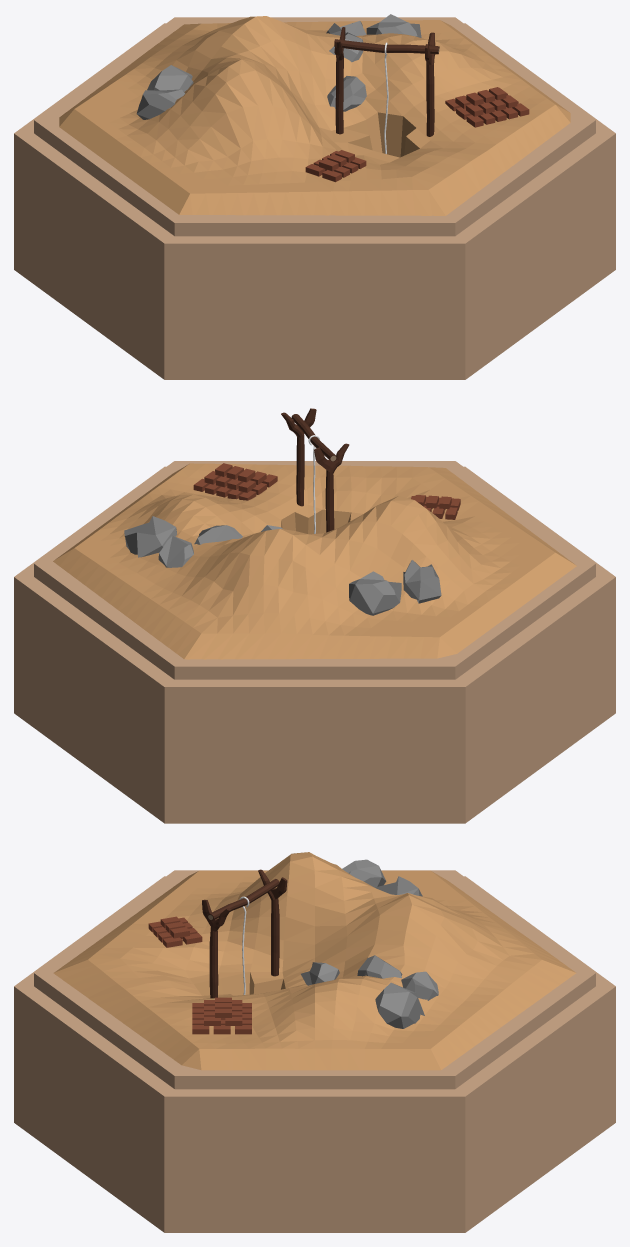
Rendered from fbx_claypit.fbx.
The picture shows the model from 3 angles, top to bottom: view 1: azimuth 30°, elevation 25°; view 2: azimuth 150°, elevation 25°; view 3: azimuth 270°, elevation 25°; orthographic projection.
Visible parts, largest first — view 1: Hills, Clayhills, Pillars, Bricks, Rock2.001, Rock3.002, Rock2.002, Rock3.001, Bricks.003, Bricks.001; view 2: Hills, Clayhills, Pillars, Rock3.002, Rock3.001, Rock2.001, Bricks, Rock3.003, Bricks.001, Rock1.001; view 3: Hills, Clayhills, Pillars, Rock3.001, Bricks, Rock2.001, Bricks.003, Rock3.003, Bricks.001, Rock1.001, Rock2.002.
Part boxes in pixels (x1=…): Hills: x1=14, y1=17, x2=615, y2=379; Clayhills: x1=59, y1=16, x2=570, y2=215; Pillars: x1=334, y1=27, x2=439, y2=136; Bricks: x1=445, y1=87, x2=529, y2=127; Rock2.001: x1=136, y1=89, x2=185, y2=119; Rock3.002: x1=147, y1=65, x2=193, y2=91; Rock2.002: x1=327, y1=76, x2=366, y2=111; Rock3.001: x1=366, y1=14, x2=421, y2=37; Bricks.003: x1=305, y1=151, x2=366, y2=182; Bricks.001: x1=455, y1=90, x2=517, y2=116; Hills: x1=14, y1=461, x2=615, y2=823; Clayhills: x1=53, y1=463, x2=576, y2=659; Pillars: x1=281, y1=408, x2=349, y2=532; Rock3.002: x1=349, y1=571, x2=401, y2=615; Rock3.001: x1=124, y1=516, x2=176, y2=557; Rock2.001: x1=403, y1=560, x2=441, y2=603; Bricks: x1=193, y1=463, x2=277, y2=500; Rock3.003: x1=158, y1=535, x2=193, y2=567; Bricks.001: x1=204, y1=464, x2=266, y2=492; Rock1.001: x1=194, y1=525, x2=242, y2=544; Hills: x1=14, y1=870, x2=615, y2=1232; Clayhills: x1=53, y1=852, x2=576, y2=1070; Pillars: x1=202, y1=869, x2=287, y2=998; Rock3.001: x1=375, y1=982, x2=424, y2=1028; Bricks: x1=192, y1=1003, x2=251, y2=1034; Rock2.001: x1=342, y1=859, x2=386, y2=887; Bricks.003: x1=148, y1=917, x2=202, y2=947; Rock3.003: x1=401, y1=971, x2=438, y2=1000; Bricks.001: x1=204, y1=1000, x2=242, y2=1025; Rock1.001: x1=357, y1=955, x2=402, y2=978; Rock2.002: x1=301, y1=962, x2=339, y2=985.
Size of the model in its own units: 173 by 92.05 by 200.
